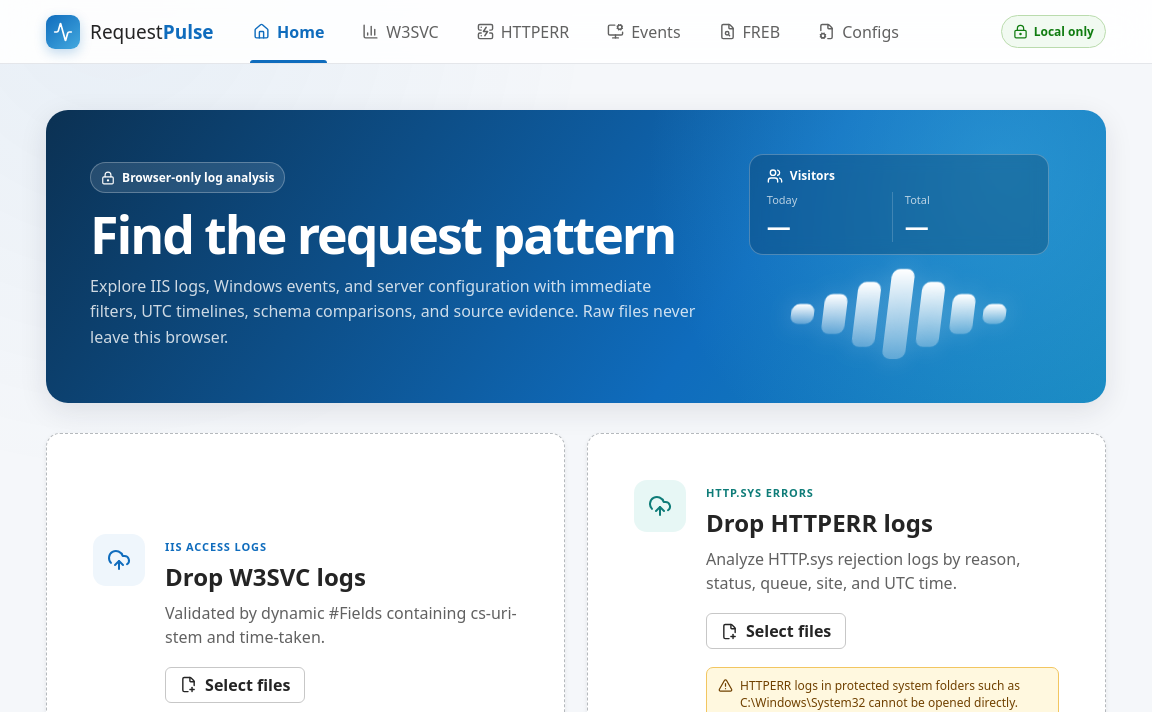
Test: App navigation and file processing state › keeps dashboards available without uploaded files
Expected: the button "Home" is enabled, [236,0,341,63]
Expected: the button "HTTPERR" is enabled, [460,0,586,63]
Click the button "W3SVC".
click(400, 32)  # box [345,0,456,63]
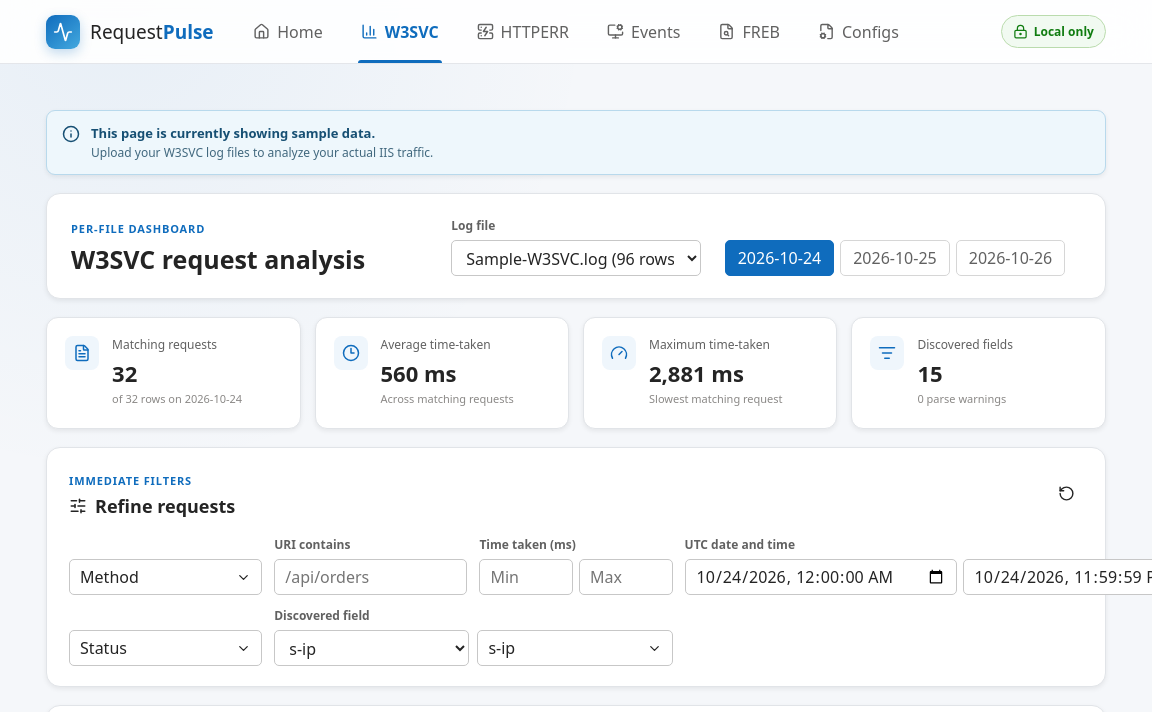
Expected: the text "This page is currently showing sample data." is shown, [91,124,375,142]
Expected: the text "Upload your W3SVC log files to analyze your actual IIS traffic." is shown, [91,144,433,162]
